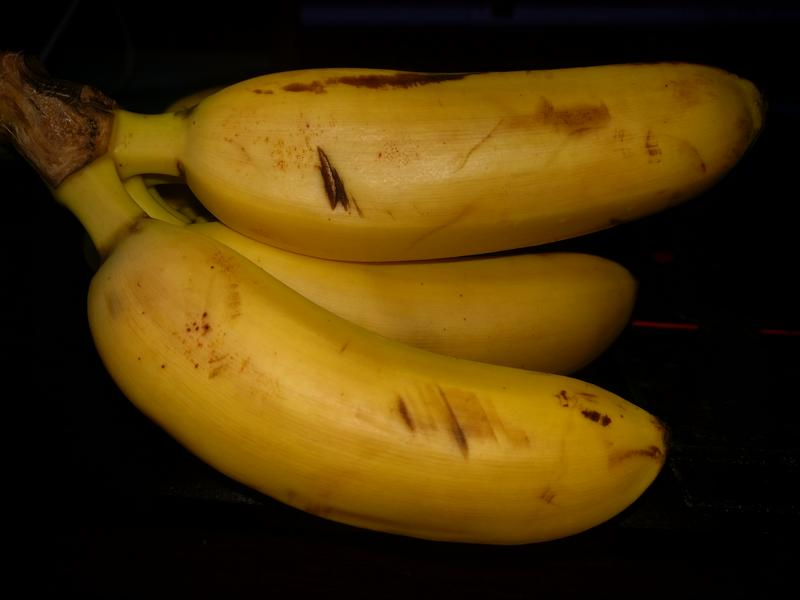banana: (1, 45, 769, 571)
